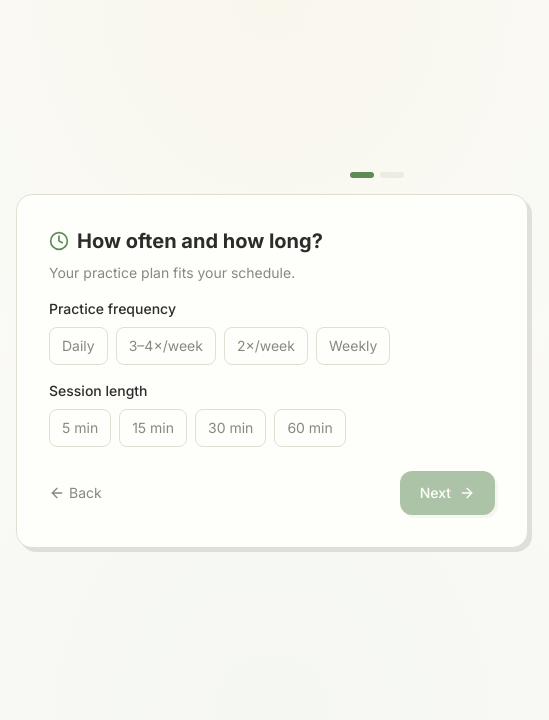
Test: EnhancedOnboarding skill assessment navigation › Generate My Map from the assessment list reaches the learning map
Earlier steps of the test are not shown.
Click the button "Daily". click: (78, 346)
box: [49, 327, 108, 365]
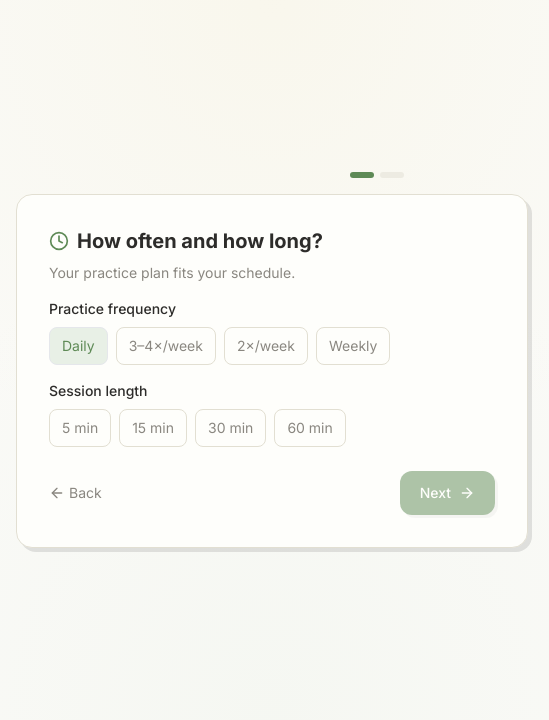
Click the button "15 min". click: (153, 428)
box: [119, 409, 187, 447]
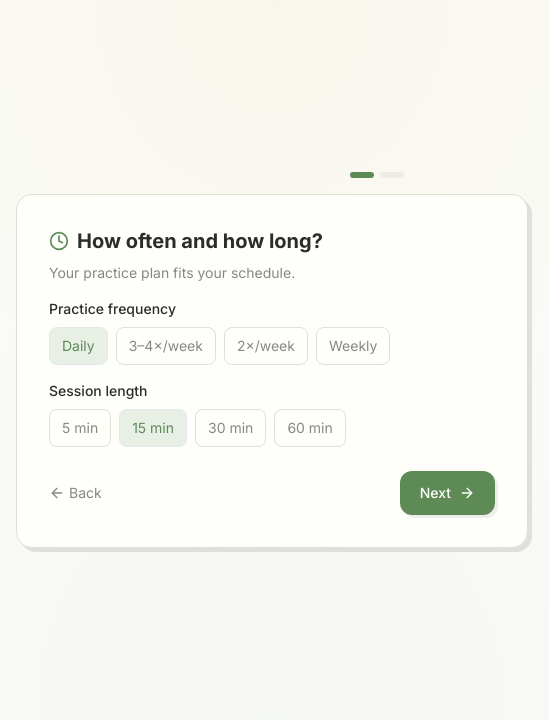
Click the button "Next". click: (447, 493)
box: [400, 471, 495, 515]
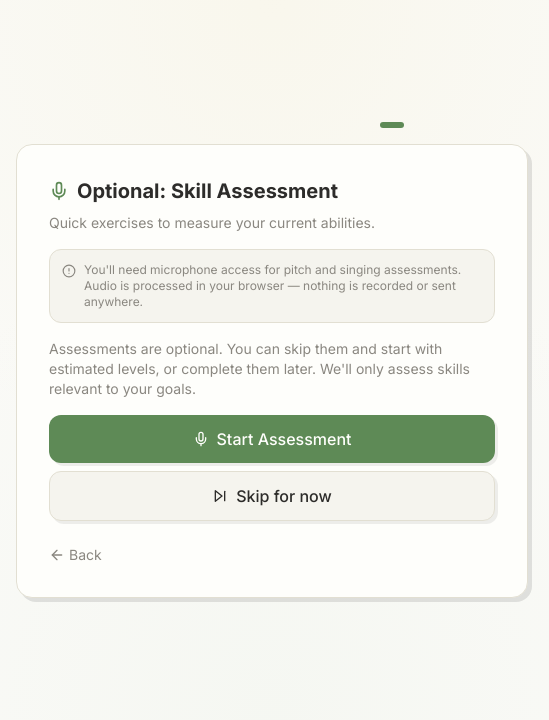
Check: the heading "Optional: Skill Assessment" is shown, box [77, 177, 338, 205]
Click the button "Start Assessment". click: (272, 439)
box: [49, 415, 495, 463]
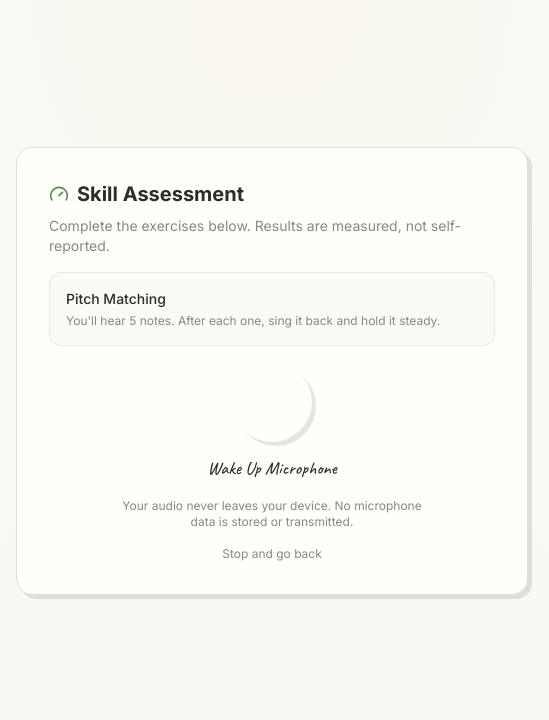
Click the button "Stop and go back". click: (272, 554)
box: [222, 546, 322, 562]
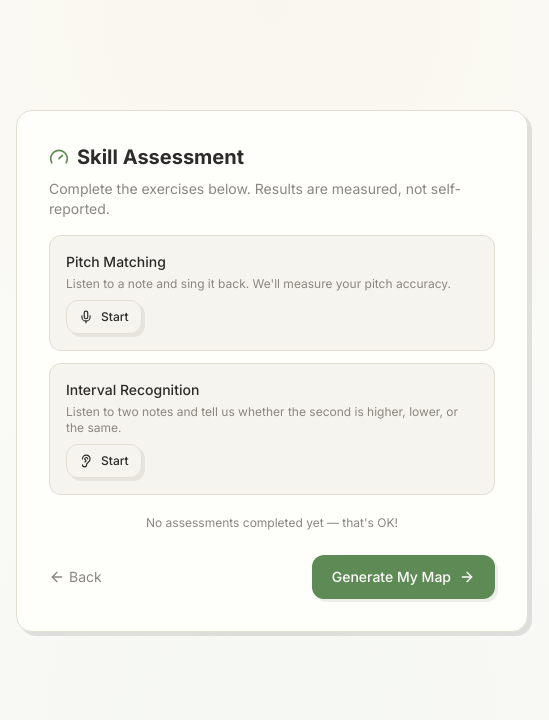
Click the button "Generate My Map". click: (403, 577)
box: [312, 555, 495, 599]
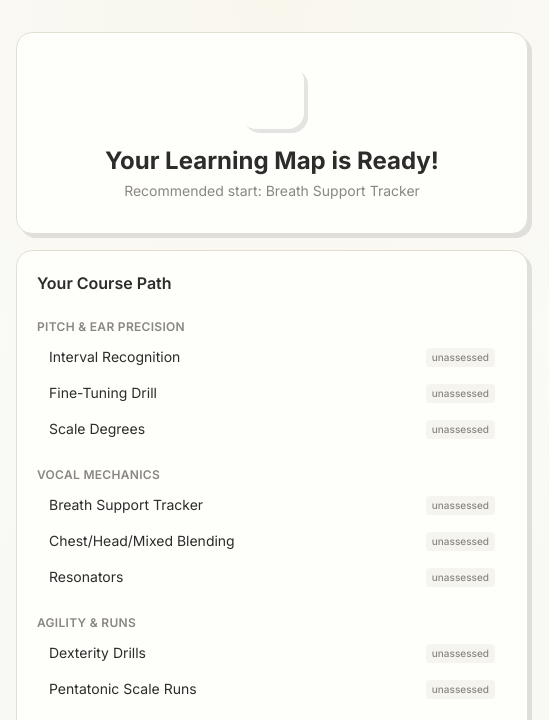
Check: the heading "Your Learning Map is Ready!" is shown, box [105, 145, 439, 177]
